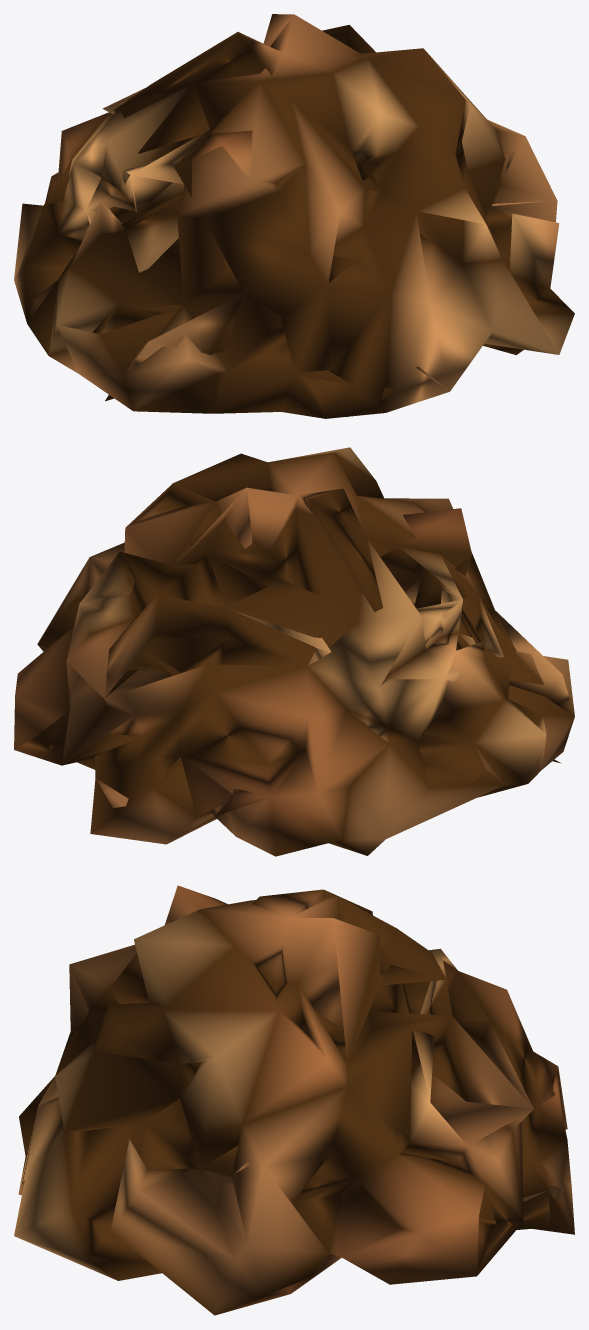
The model's file is gen3d-log-pile-lod1.glb.
3 views of the same model, one above another, from view 1: azimuth 30°, elevation 25°; view 2: azimuth 150°, elevation 25°; view 3: azimuth 270°, elevation 25° (orthographic). The views are drawn at different scales.
Visible parts, largest first — view 1: part_0; view 2: part_0; view 3: part_0.
Boxes of the visible parts, left/top/right/bottom form: part_0: left=14, top=14, right=574, bottom=418; part_0: left=14, top=447, right=574, bottom=856; part_0: left=14, top=885, right=574, bottom=1315.
Bounding box in the file's own units: 1.81 × 1 × 1.7.
